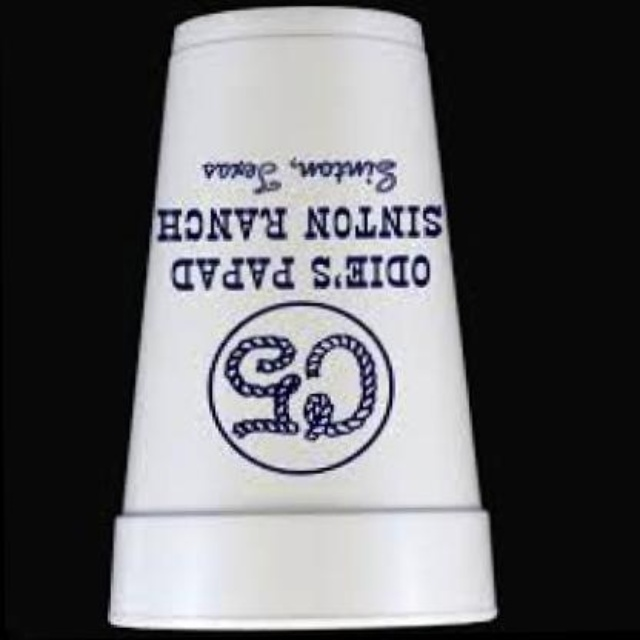trash: (109, 6, 494, 628)
